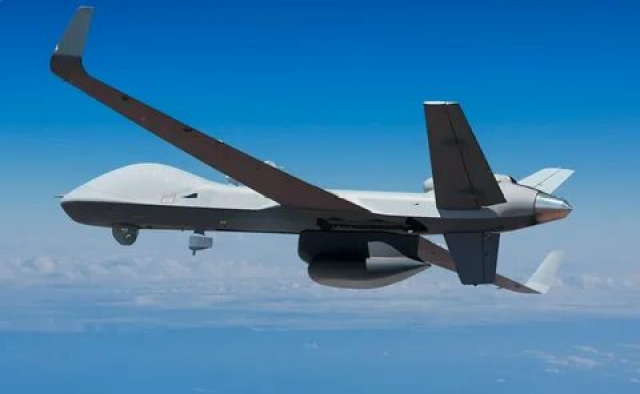military drone: (45, 6, 575, 294)
